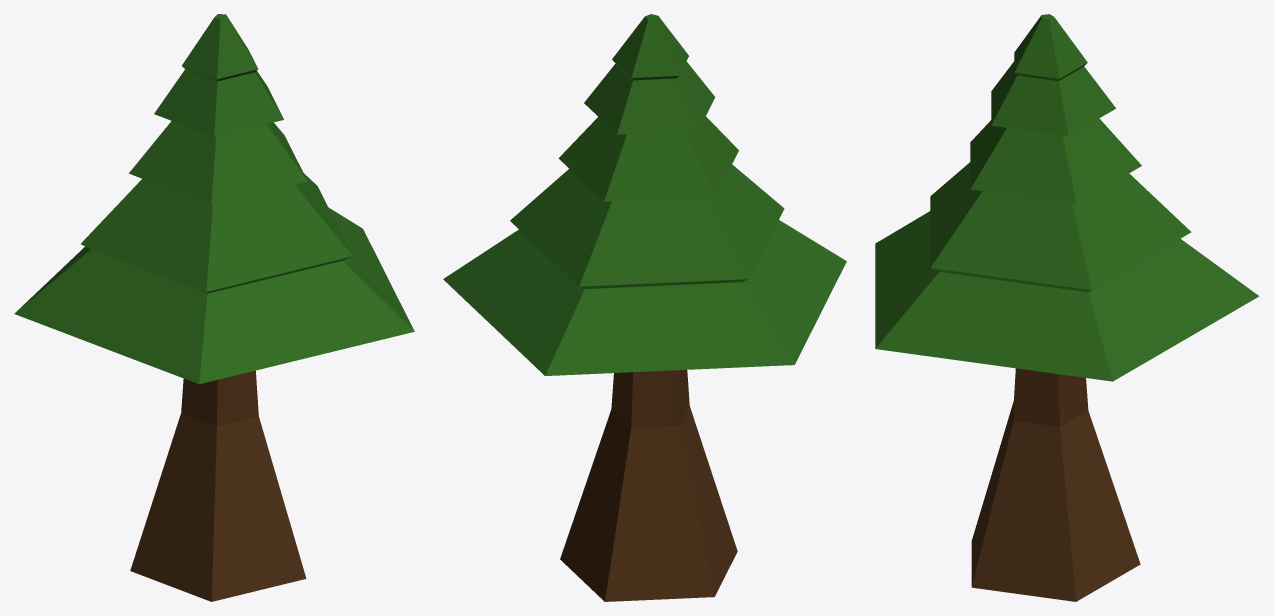
The model's file is tree_2.fbx.
The picture shows the model from 3 angles, left to right: view 1: azimuth 30°, elevation 25°; view 2: azimuth 150°, elevation 25°; view 3: azimuth 270°, elevation 25°; orthographic projection.
Visible parts, largest first — view 1: tree_2; view 2: tree_2; view 3: tree_2.
Part boxes in pixels (<box>): tree_2: <box>14,14,414,601</box>; tree_2: <box>443,14,846,601</box>; tree_2: <box>875,14,1259,601</box>.
Size of the model in its own units: 411 by 432 by 647.
